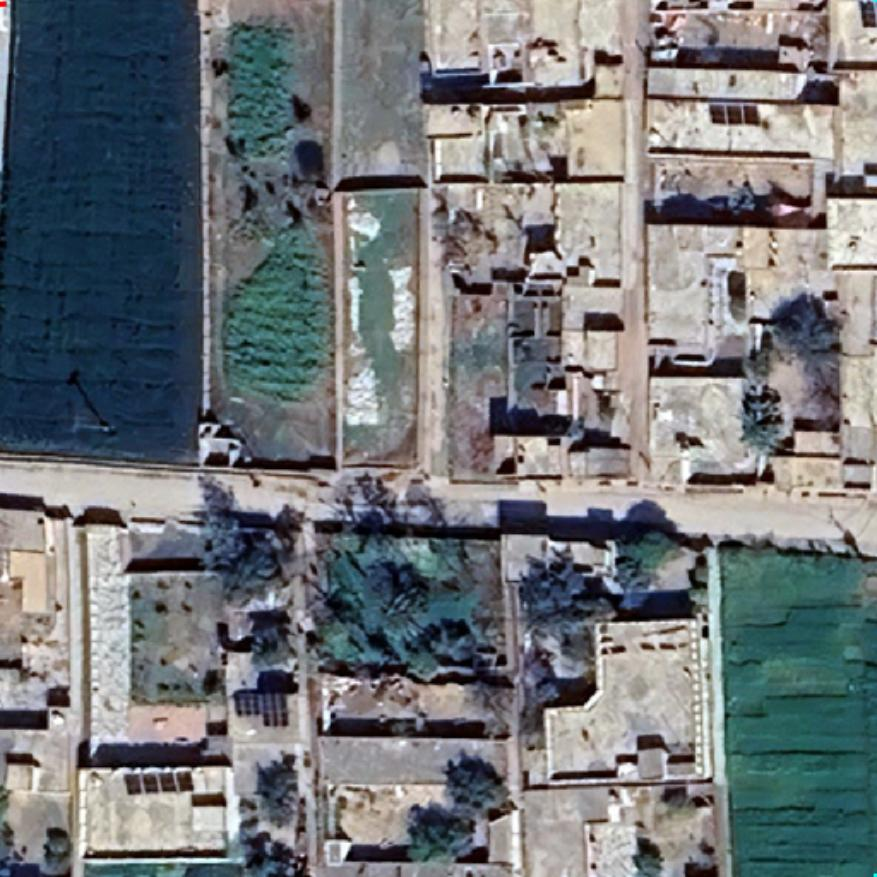Solarpanel: (230, 685, 294, 731), (120, 766, 198, 798), (704, 99, 766, 129)
